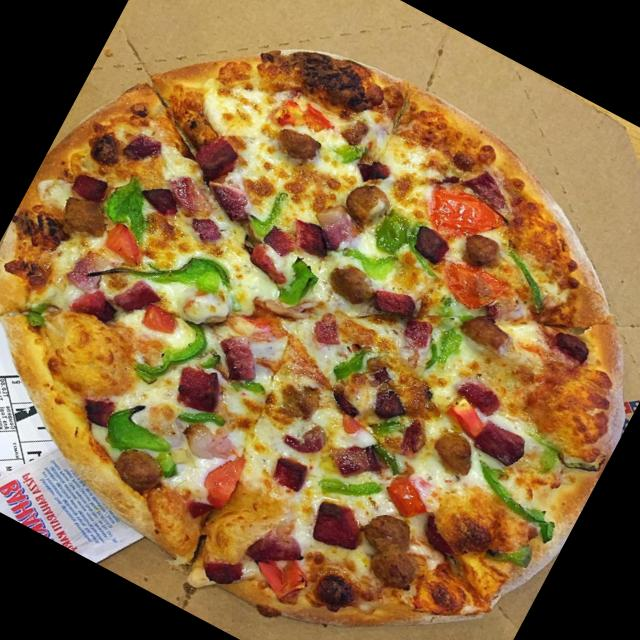peppers: (94, 212, 249, 338), (458, 456, 568, 544), (138, 308, 225, 400), (98, 394, 188, 476), (312, 322, 390, 397), (485, 240, 565, 308), (95, 170, 168, 243), (408, 294, 474, 374), (317, 450, 389, 514), (270, 254, 332, 321), (359, 200, 421, 263), (336, 235, 399, 288), (244, 180, 296, 244), (174, 389, 232, 442), (362, 434, 420, 479), (16, 292, 64, 339), (334, 132, 374, 172), (367, 409, 409, 446), (232, 370, 269, 404)
pizza: (0, 50, 625, 631)
